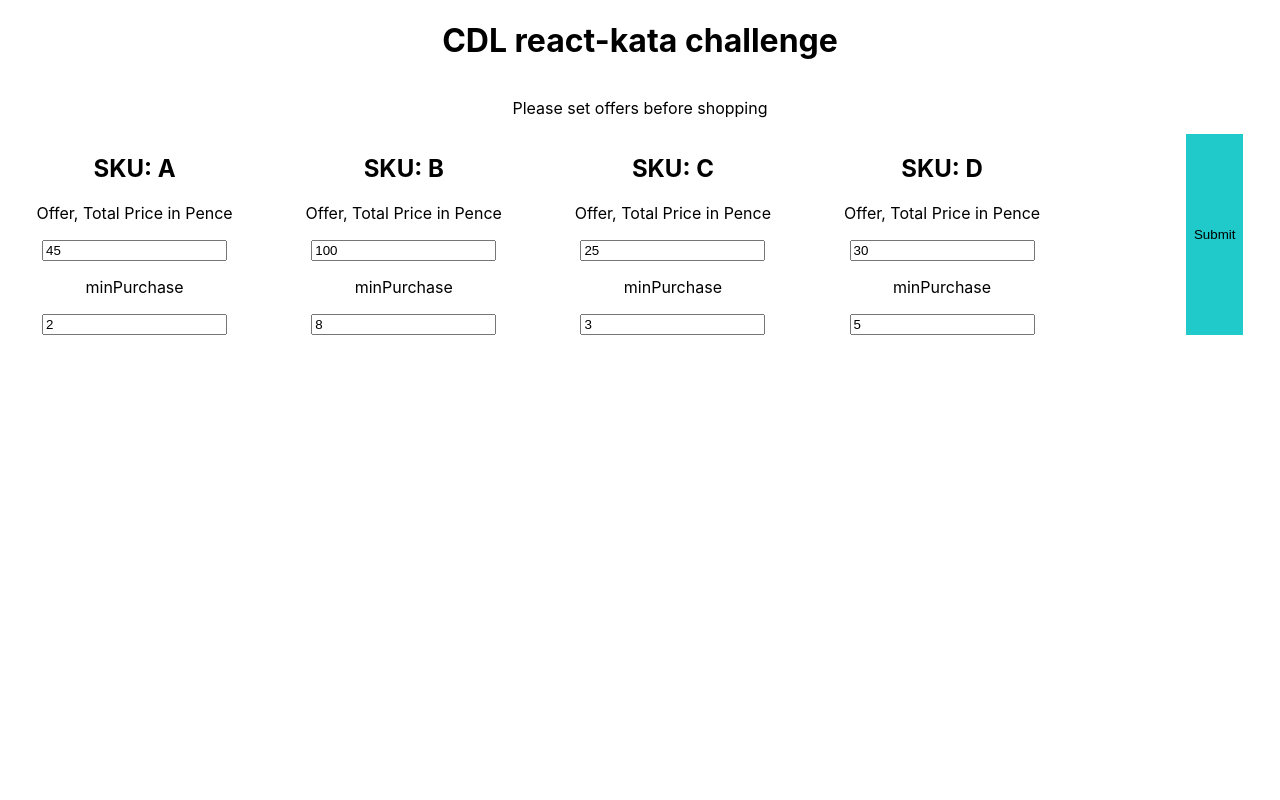
Test: CDL Basket Kata › displays new offer price in pence when set
Replace the text in the number field with test id "A offer input" with "120" at (135, 251), box [42,240,227,261]
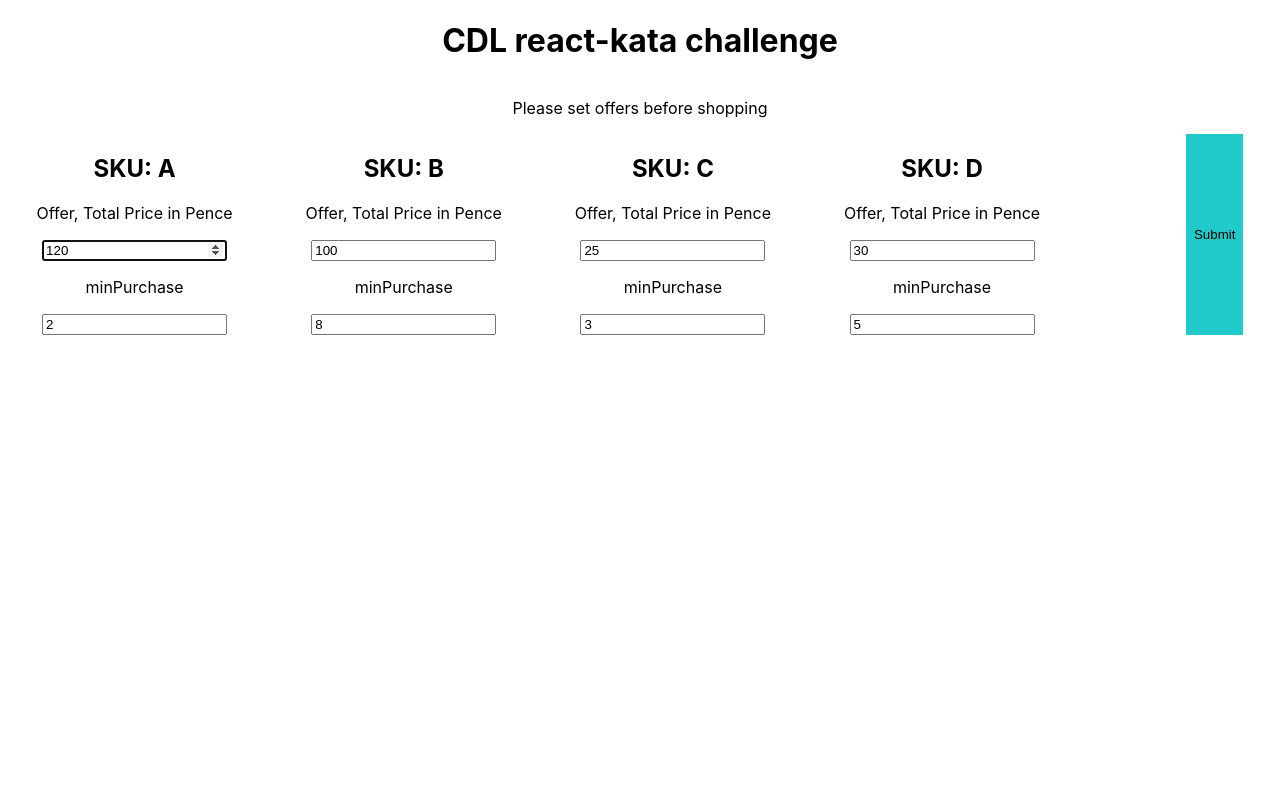
Click the button with test id "SubmitPricingForm".
click(1215, 235)  # box [1186,134,1244,335]
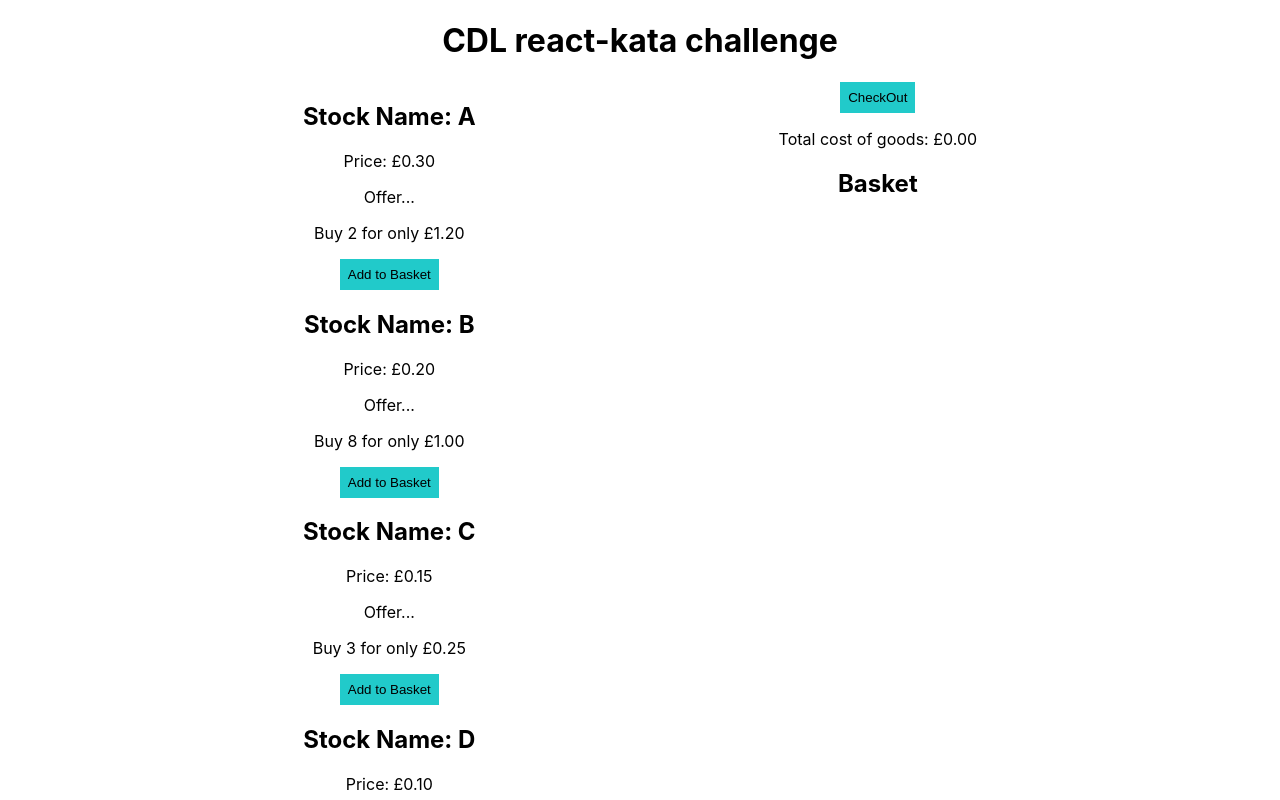
Result: the text named "A offer" reads "Buy 2 for only £1.20" at [303,223,476,243]
